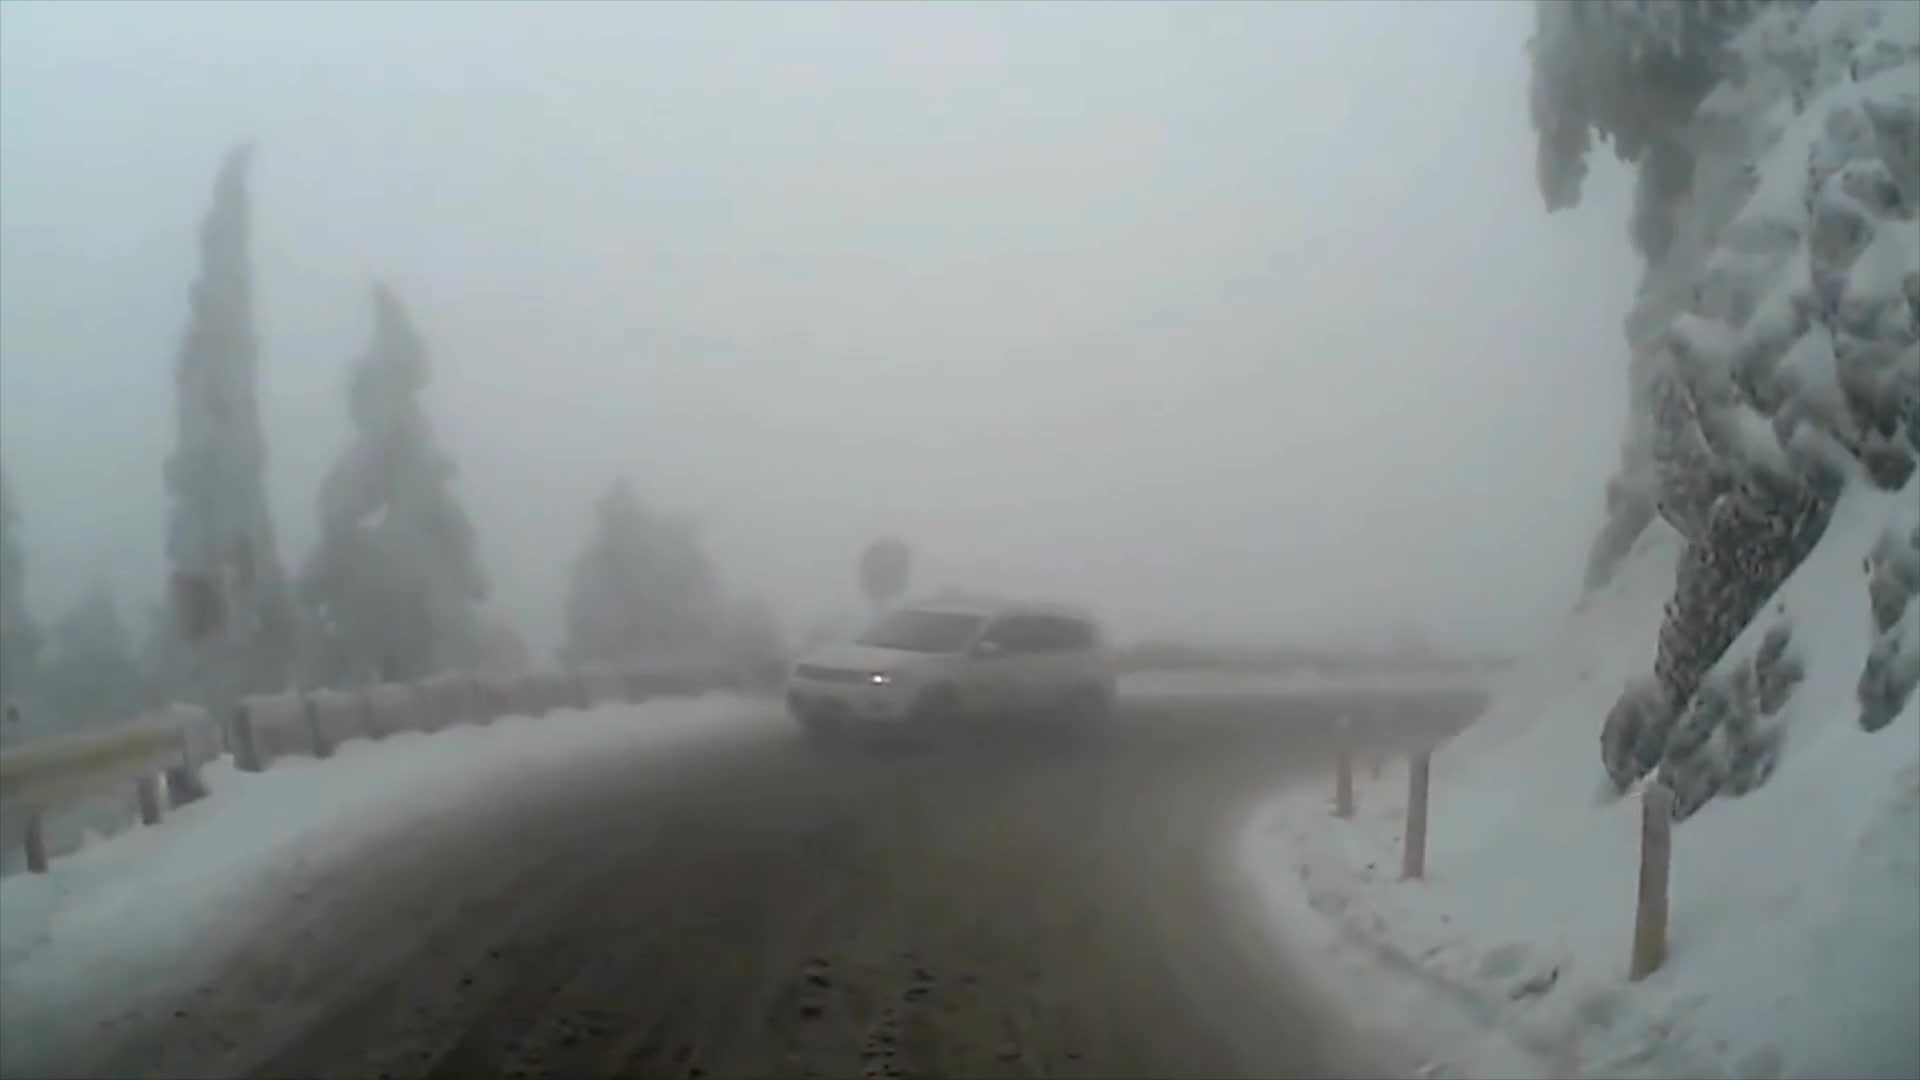vehicle: (783, 593, 1116, 760)
